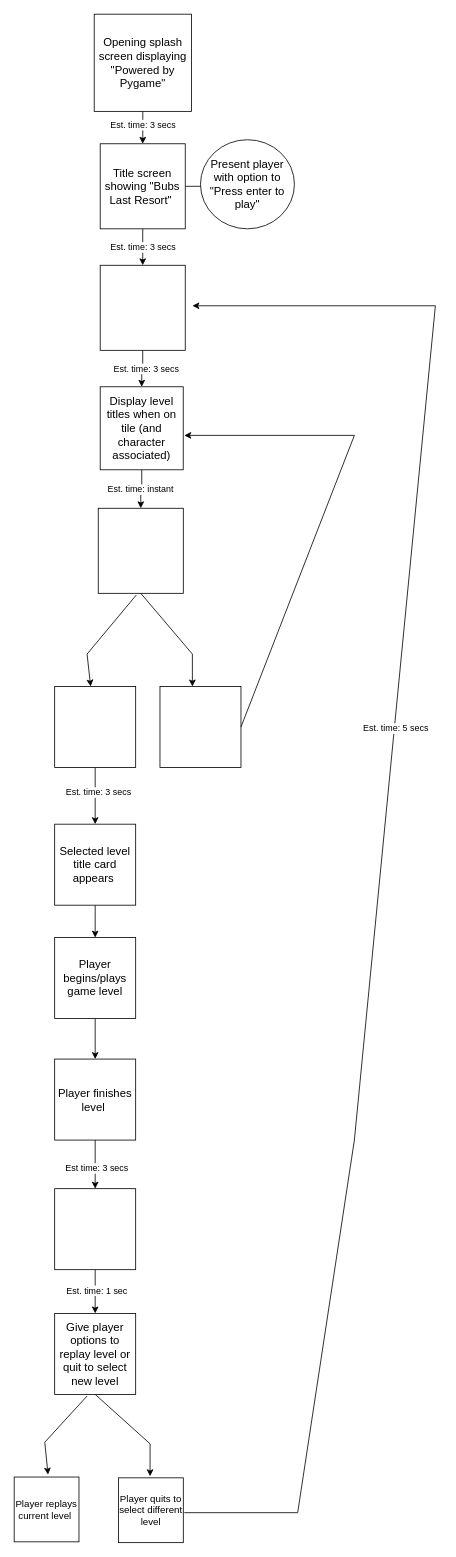
The diagram is 456 pixels wide and 1557 high, and some of its shapes have lost their labels. Each missing label, with the centre of its shape:
"Display overworld map/level select to player" belongs at point (142, 307).
"Level titles display when on tile (and character associated)" belongs at point (140, 550).
"Player moves away from level tile" belongs at point (200, 726).
"Player then chooses a level" belongs at point (95, 726).
"Present Results screen on completion" belongs at point (95, 1229).
